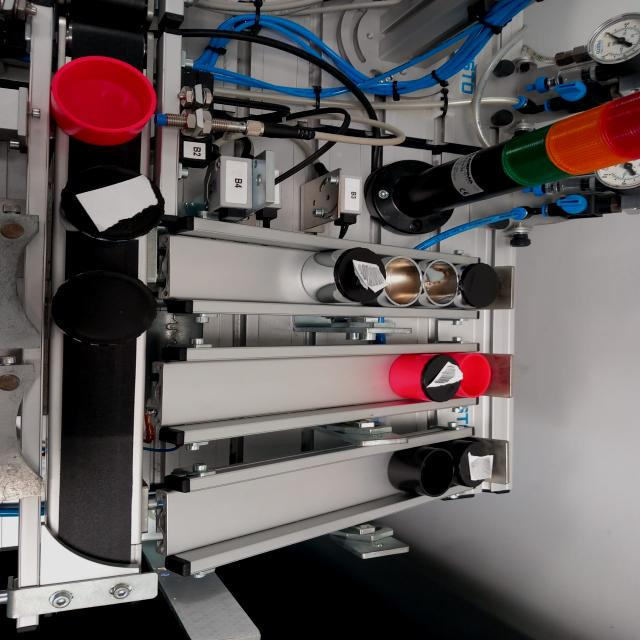NoLid: (42, 43, 160, 157), (390, 444, 459, 502), (419, 255, 463, 309), (381, 251, 420, 307), (461, 346, 500, 401)
Workpiece: (53, 269, 171, 354), (454, 261, 504, 312)
